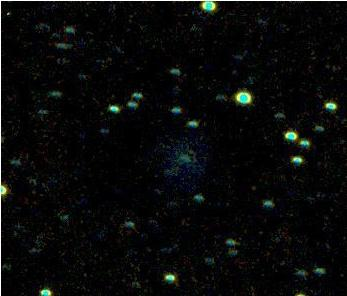star: (175, 136, 205, 166)
